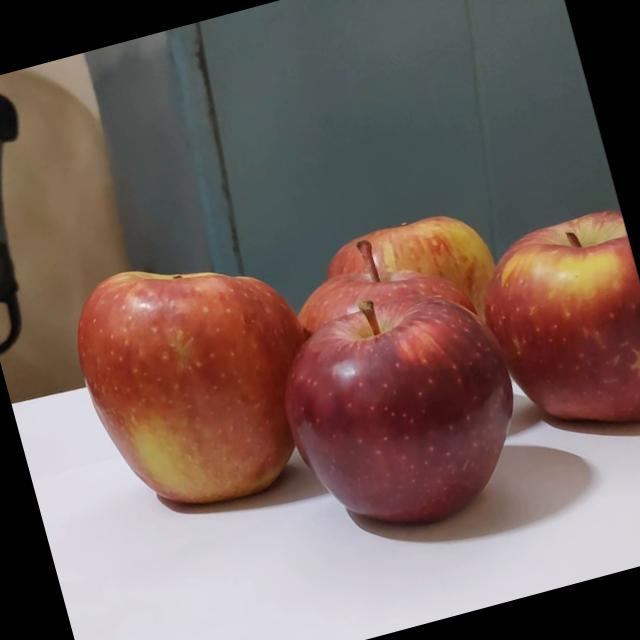apple: (54, 248, 316, 530), (254, 285, 515, 552), (267, 222, 483, 466), (447, 203, 640, 450), (284, 220, 476, 430)
